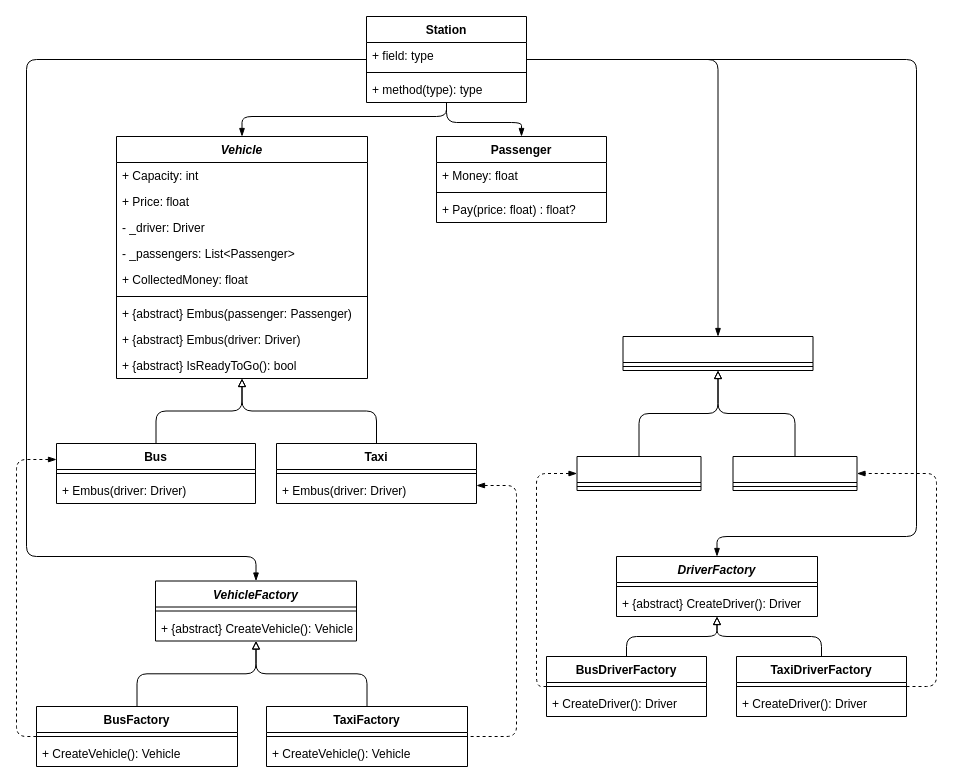
This 953x783 diagram has some shape labels left out. The shapes that lost their labels are listed below. From the top down, each one's centre as x and y in pixels, then its label:
pixel 717 353: Driver
pixel 638 473: BusDriver
pixel 794 473: TaxiDriver
